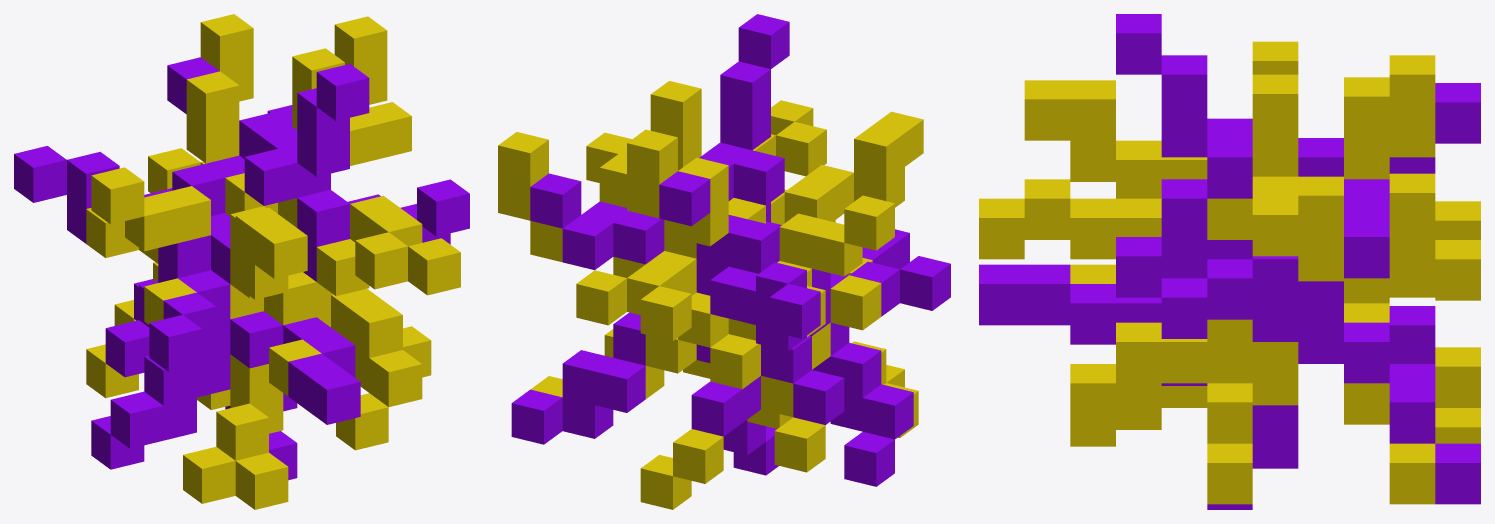
The model's file is GORODITH_projectile2.obj.
The picture shows the model from 3 angles, left to right: view 1: azimuth 30°, elevation 25°; view 2: azimuth 150°, elevation 25°; view 3: azimuth 270°, elevation 25°; orthographic projection. The views are drawn at different scales.
Size of the model in its own units: 1 by 1.2 by 1.1.
Materials: 1 (1 with a texture image).
